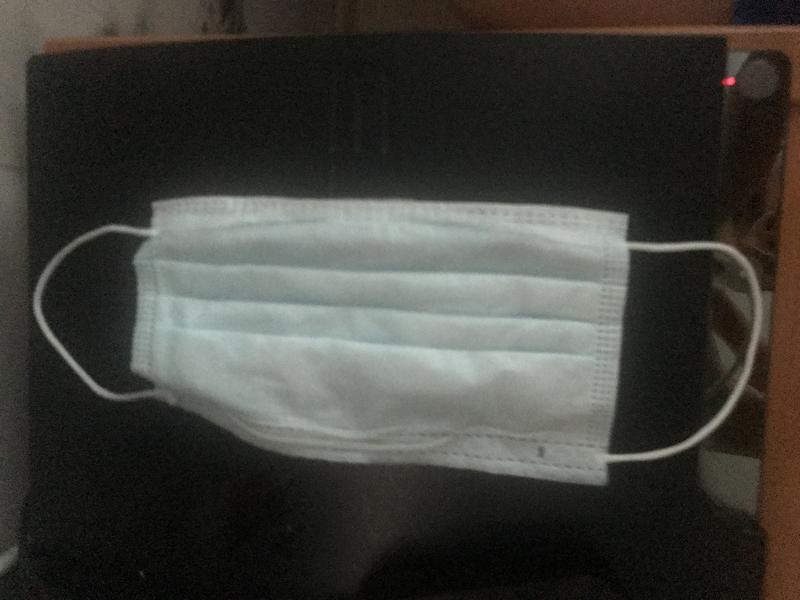medical_mask: (33, 193, 764, 488)
